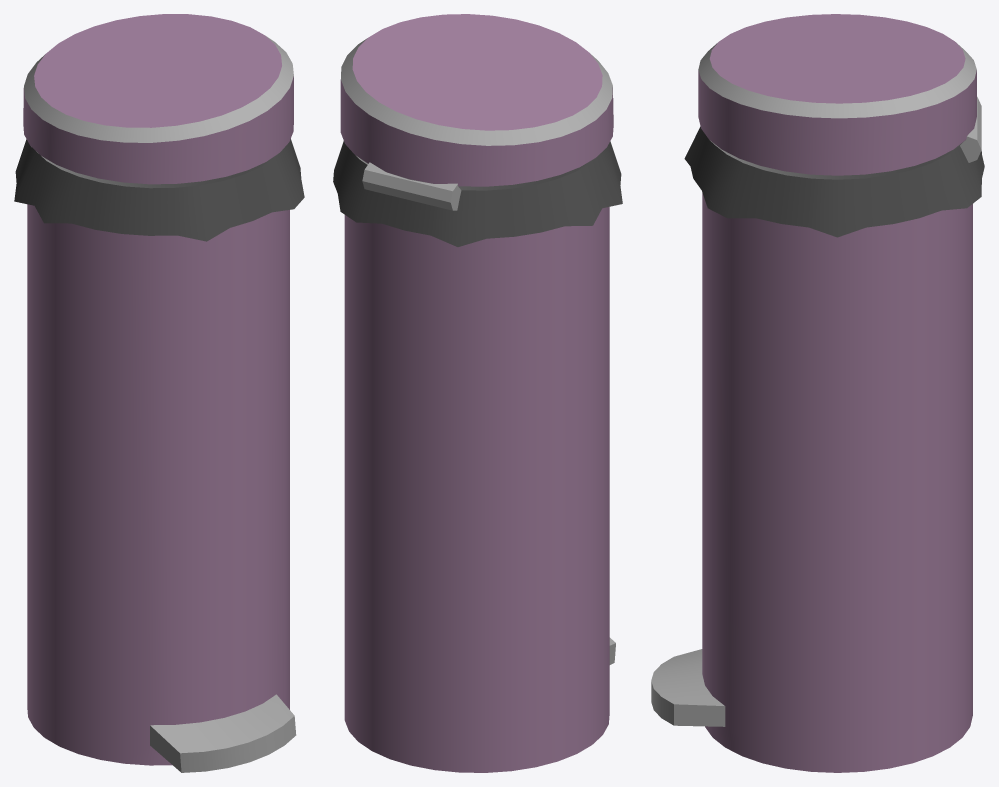
File: trashCan.fbx
3 views of the same model, side by side, from view 1: azimuth 30°, elevation 25°; view 2: azimuth 150°, elevation 25°; view 3: azimuth 270°, elevation 25° (orthographic). The views are drawn at different scales.
Visible parts, largest first — view 1: Trash Can; view 2: Trash Can; view 3: Trash Can.
Boxes of the visible parts, <box> form: Trash Can: <box>14,14,304,772</box>; Trash Can: <box>333,14,622,772</box>; Trash Can: <box>651,14,984,772</box>.
Size of the model in its own units: 68.59 by 74.04 by 163.
